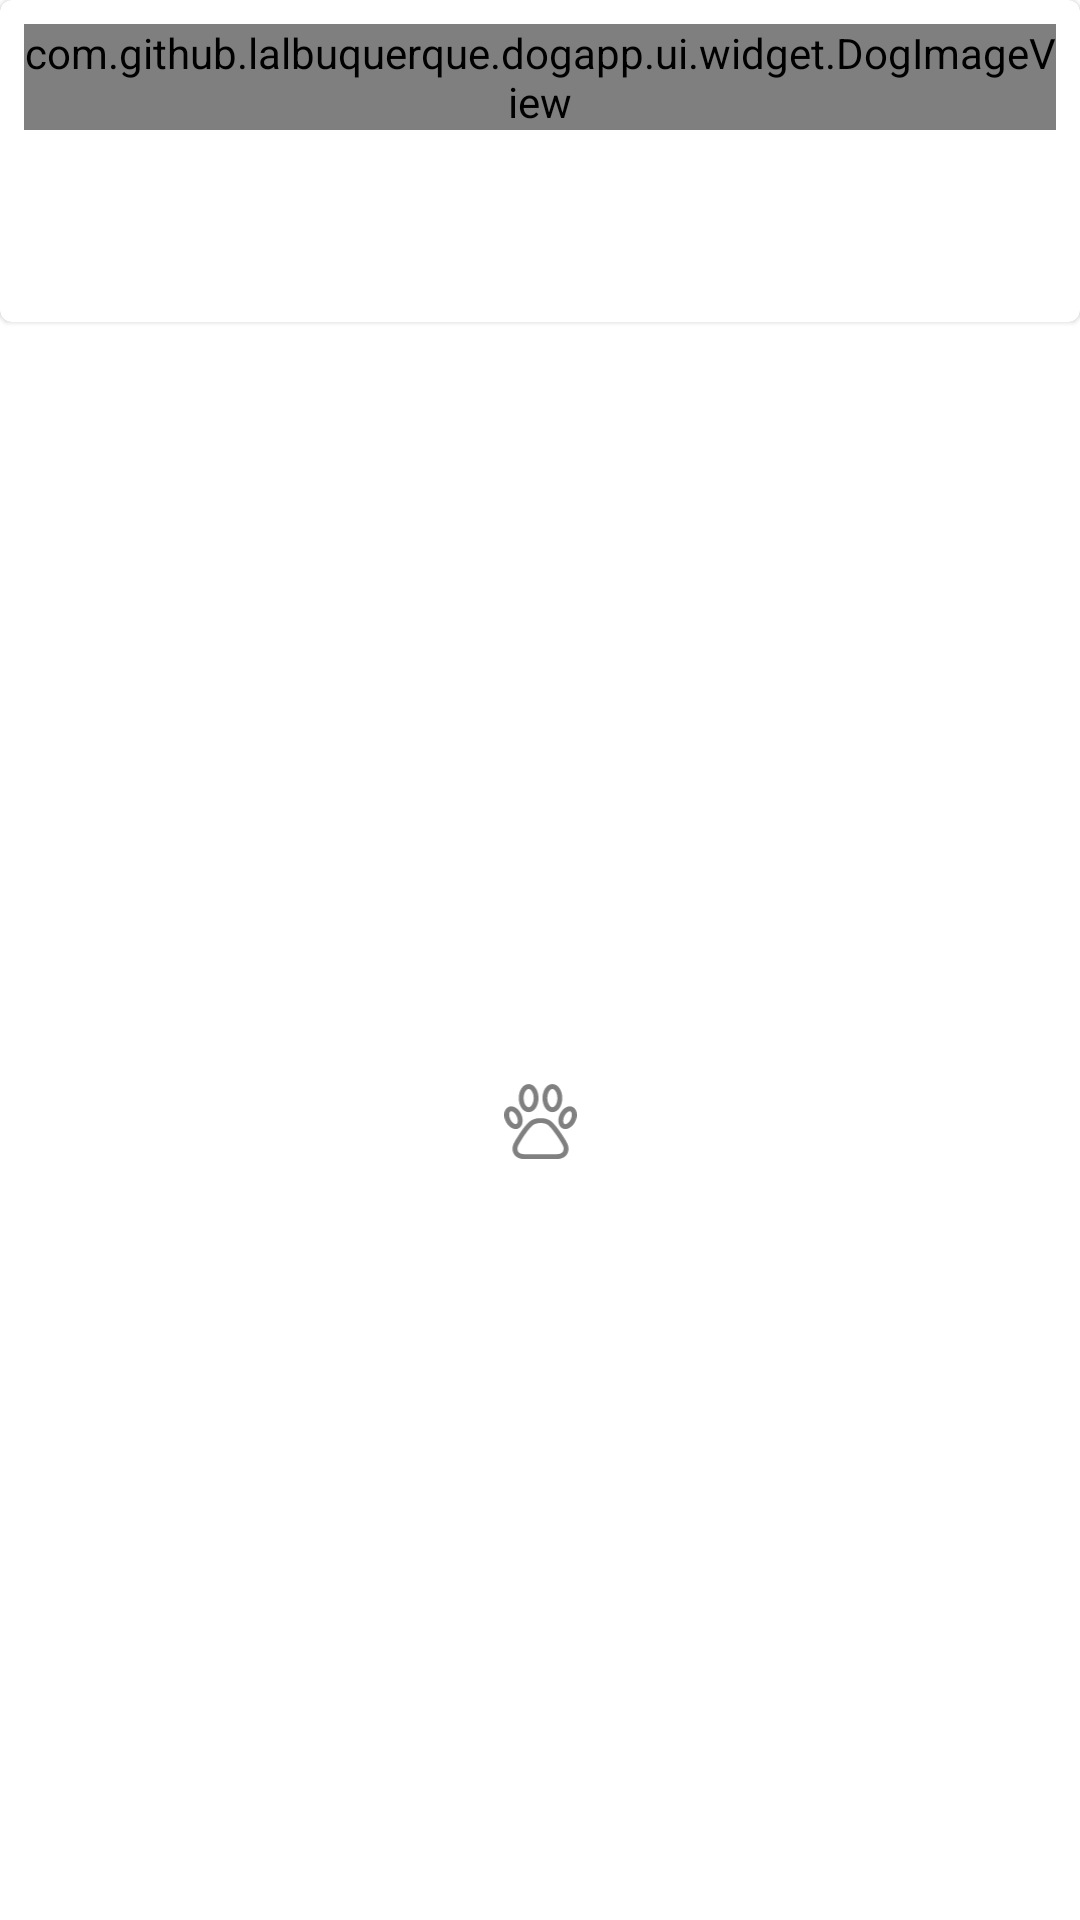

Icon click points for this 1080px x 1920px phone screenshot, format point (x, y):
pet: point (540, 1121)
